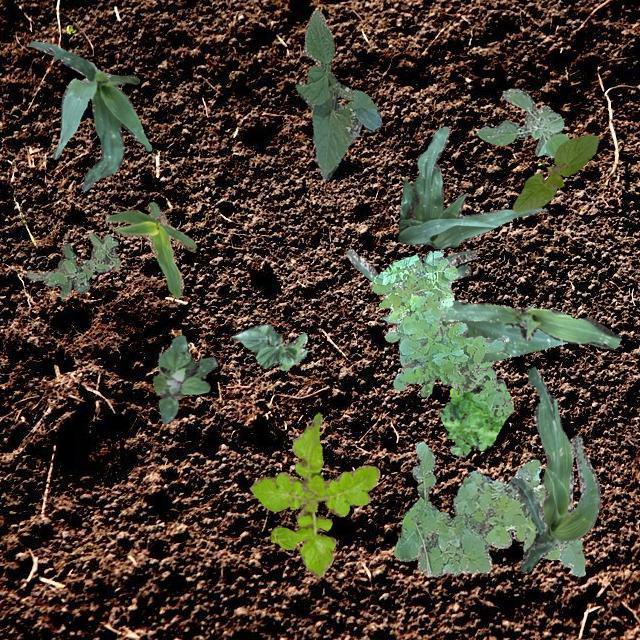crop: (346, 248, 566, 362), (510, 366, 600, 572), (398, 125, 546, 248), (28, 41, 150, 190), (294, 8, 380, 178), (382, 301, 620, 348), (104, 200, 195, 298), (512, 134, 598, 212), (232, 322, 306, 370)
weed: (392, 440, 584, 576), (372, 250, 512, 416), (248, 412, 378, 576), (438, 358, 512, 456), (474, 88, 568, 156), (152, 334, 216, 424), (26, 232, 120, 286), (48, 242, 88, 296)
